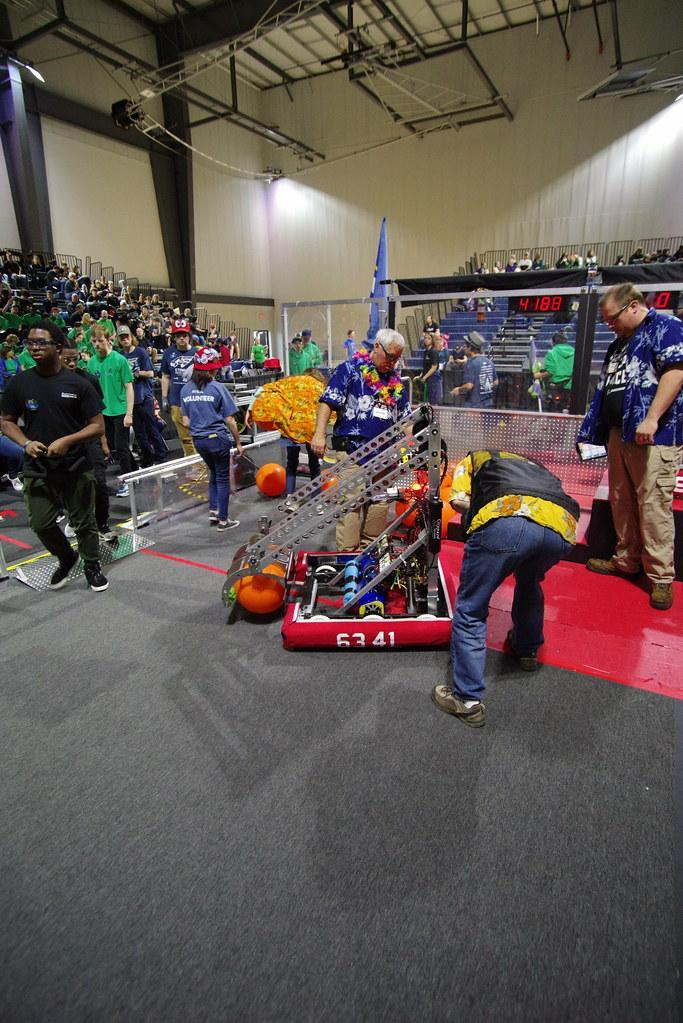robot: (280, 394, 462, 654)
